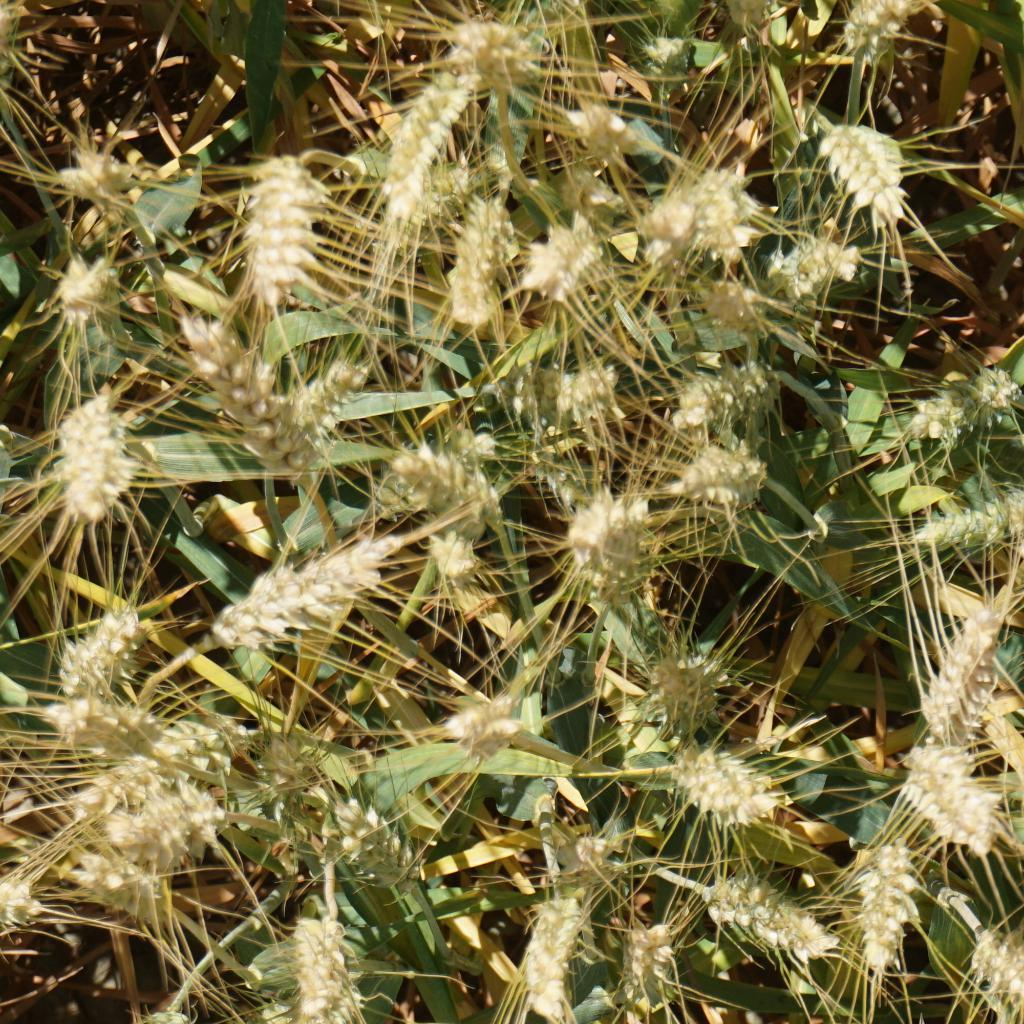0-0: (202, 531, 405, 656), (57, 709, 261, 831), (912, 586, 1024, 756), (233, 152, 330, 317), (698, 872, 843, 975), (806, 107, 919, 237), (566, 485, 675, 619), (893, 728, 1008, 854), (364, 68, 466, 205), (843, 834, 925, 994), (890, 358, 1024, 455), (46, 392, 138, 526), (188, 314, 281, 442), (659, 738, 781, 833), (500, 354, 635, 436), (376, 154, 504, 240), (328, 792, 434, 892), (514, 887, 591, 1024), (285, 905, 370, 1024), (46, 600, 150, 696), (664, 358, 787, 438), (761, 221, 877, 305), (443, 194, 512, 333), (636, 637, 732, 733), (900, 485, 1024, 557), (105, 790, 231, 857), (396, 446, 487, 535), (622, 911, 692, 1021), (44, 247, 125, 340), (523, 220, 605, 308), (53, 705, 172, 765), (52, 147, 143, 225), (247, 708, 318, 806), (691, 159, 754, 266), (62, 852, 168, 914), (449, 26, 542, 94), (295, 349, 368, 435), (524, 451, 614, 517), (446, 692, 534, 754), (839, 0, 926, 62), (684, 443, 768, 507), (699, 268, 764, 339), (969, 928, 1024, 1011), (555, 165, 636, 221), (624, 24, 699, 81), (564, 103, 632, 162), (557, 818, 620, 871), (422, 525, 486, 577), (0, 863, 39, 937), (642, 188, 693, 240), (0, 0, 25, 82), (188, 1007, 301, 1024), (105, 1001, 188, 1024)
